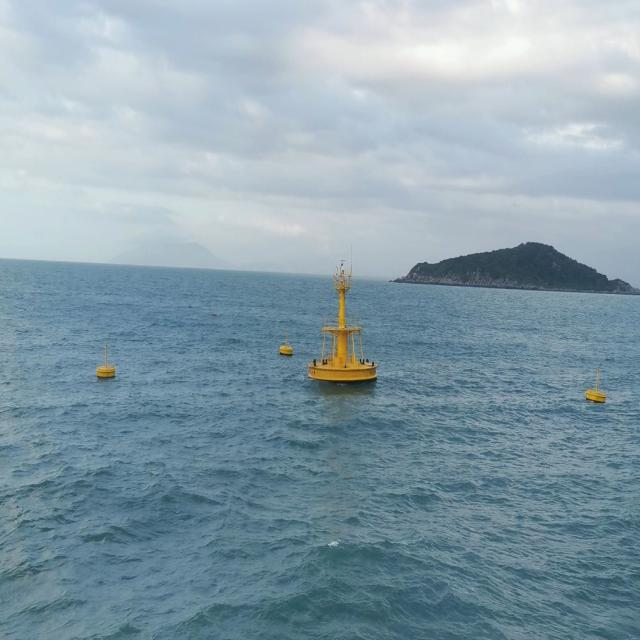buoy: (306, 258, 378, 386), (582, 363, 606, 406), (94, 343, 116, 380), (276, 328, 296, 358)
